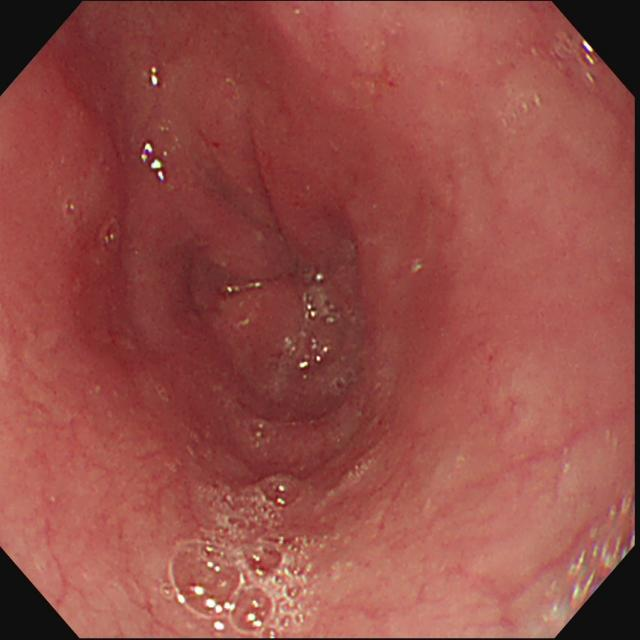I: (219, 202, 352, 351)
T: (160, 472, 314, 639)
U: (140, 143, 166, 182), (151, 66, 160, 87)
